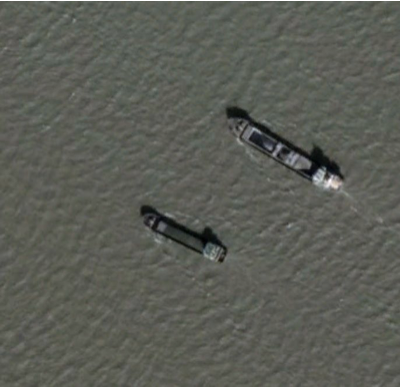boat: (224, 112, 345, 191), (139, 209, 229, 264)
